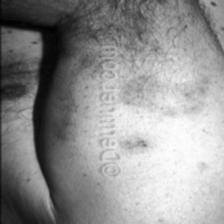Toxin: (174, 75, 208, 119), (119, 134, 155, 156)
